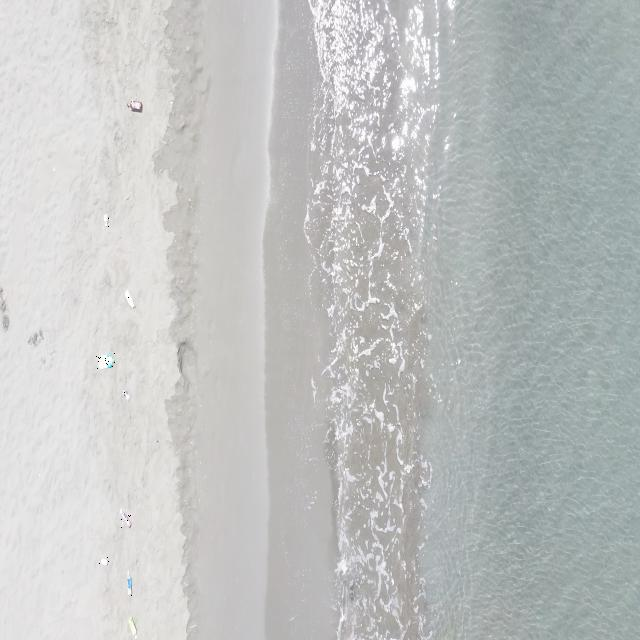Garbage: (96, 352, 114, 367), (120, 508, 131, 527), (124, 289, 134, 307), (128, 616, 136, 636), (127, 100, 141, 111), (127, 571, 131, 595), (98, 555, 108, 564), (103, 213, 108, 227), (121, 390, 128, 399)
